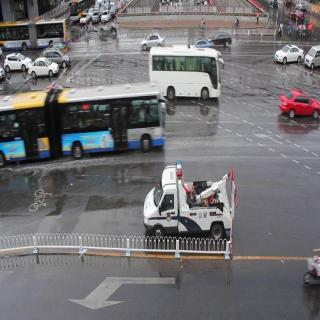BigCar: (0, 79, 161, 156), (149, 48, 224, 102), (1, 18, 71, 46), (69, 0, 80, 24)
Car: (143, 158, 233, 236), (276, 86, 320, 123), (30, 57, 60, 82), (277, 44, 305, 69), (45, 45, 72, 70), (4, 49, 30, 74), (209, 28, 232, 51), (140, 30, 164, 49), (306, 46, 320, 72), (80, 11, 90, 25), (101, 10, 111, 23), (91, 10, 99, 24)
